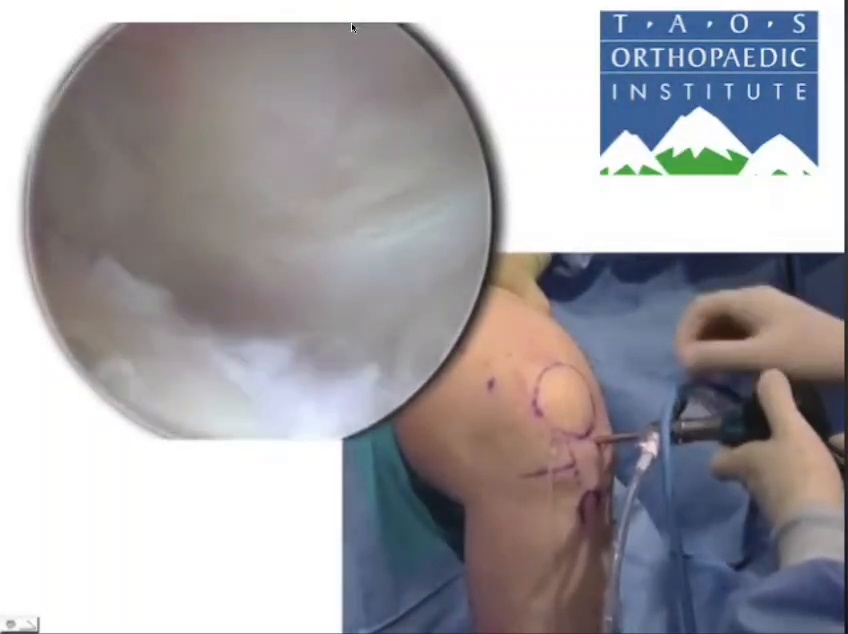arthroscope: (500, 272, 848, 634)
probe: (489, 485, 591, 560), (520, 352, 575, 433)
